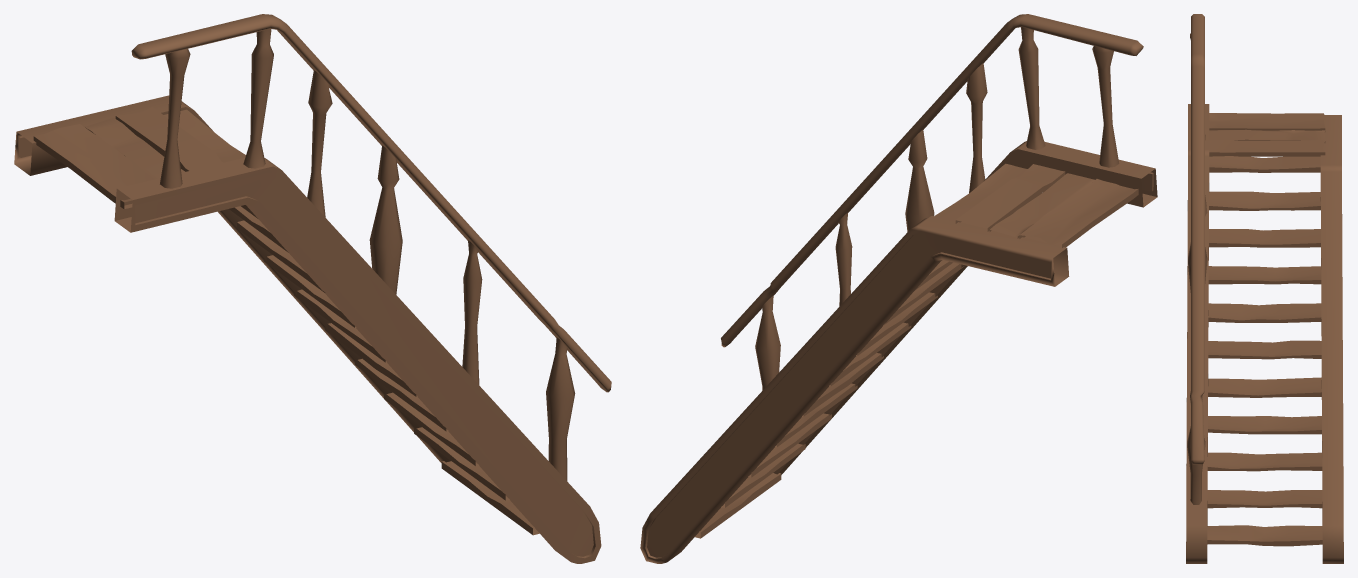
File: escalier.fbx
3 views of the same model, side by side, from view 1: azimuth 30°, elevation 25°; view 2: azimuth 150°, elevation 25°; view 3: azimuth 270°, elevation 25° (orthographic). The views are drawn at different scales.
Parts seen in each view (by area): view 1: escalier; view 2: escalier; view 3: escalier.
Part boxes in pixels (box(x1,y1,x2,y2)): escalier: box(14, 14, 611, 563); escalier: box(640, 14, 1157, 563); escalier: box(1186, 14, 1343, 563).
Bounding box in the file's own units: 74.11 × 89.9 × 31.58.
